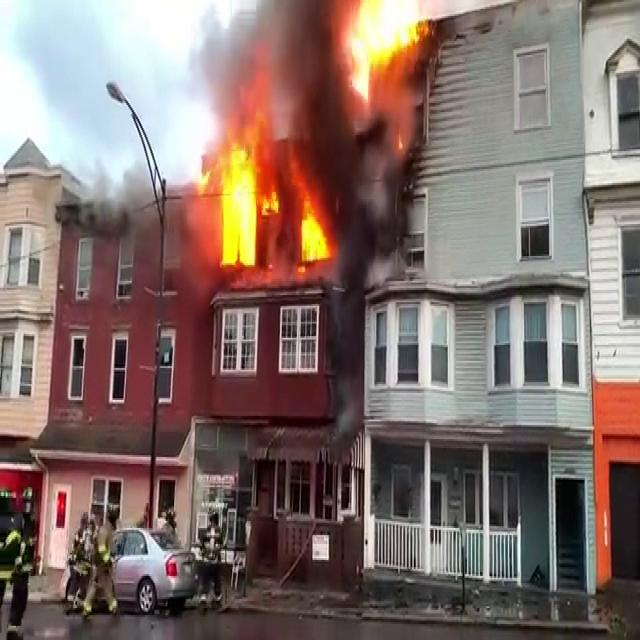Fire: (196, 117, 334, 281), (337, 0, 432, 110)
